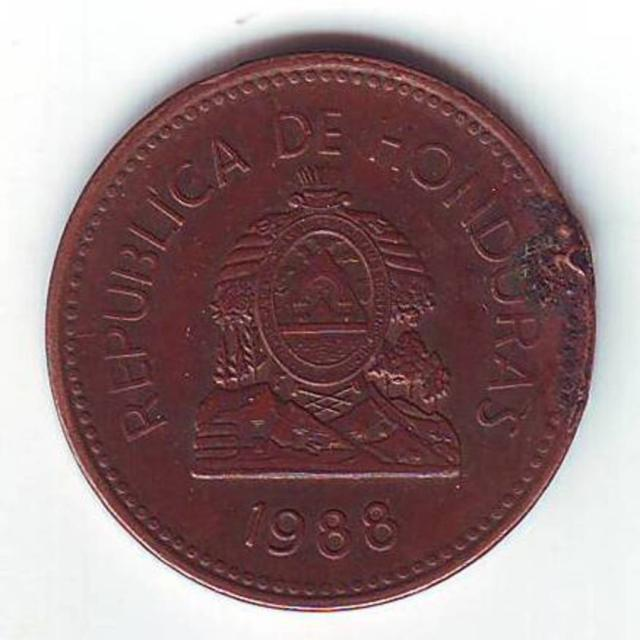Coin: (42, 52, 598, 609)
